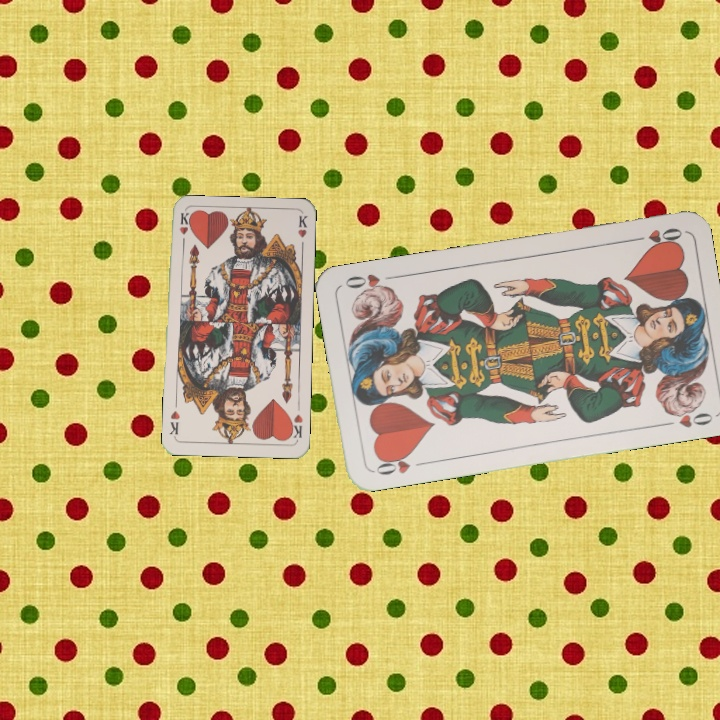HK: (285, 402, 305, 441), (176, 210, 191, 250)
HO: (369, 449, 428, 478), (626, 224, 685, 250)
